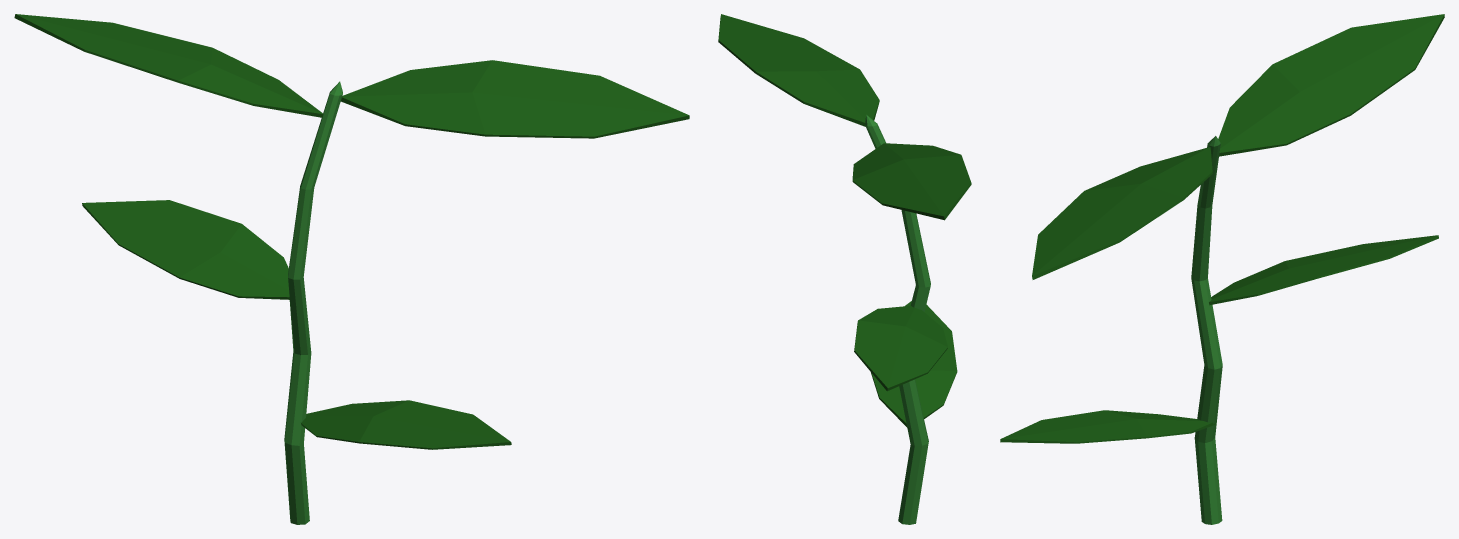
The model's file is Plant 1.3.fbx.
3 renders of one model, left to right at view 1: azimuth 30°, elevation 25°; view 2: azimuth 150°, elevation 25°; view 3: azimuth 270°, elevation 25°, orthographic. The views are drawn at different scales.
Visible parts, largest first — view 1: Plant 1.3; view 2: Plant 1.3; view 3: Plant 1.3.
Boxes of the visible parts, <box> form: Plant 1.3: <box>14,14,689,524</box>; Plant 1.3: <box>718,14,971,524</box>; Plant 1.3: <box>1000,14,1444,524</box>.
Bounding box in the file's own units: 91.29 × 86.99 × 80.94.
